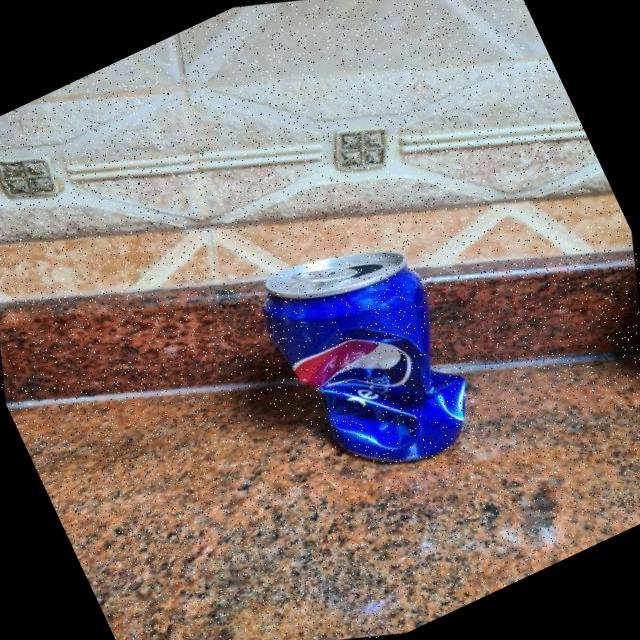Kaleng: (246, 217, 494, 500)
